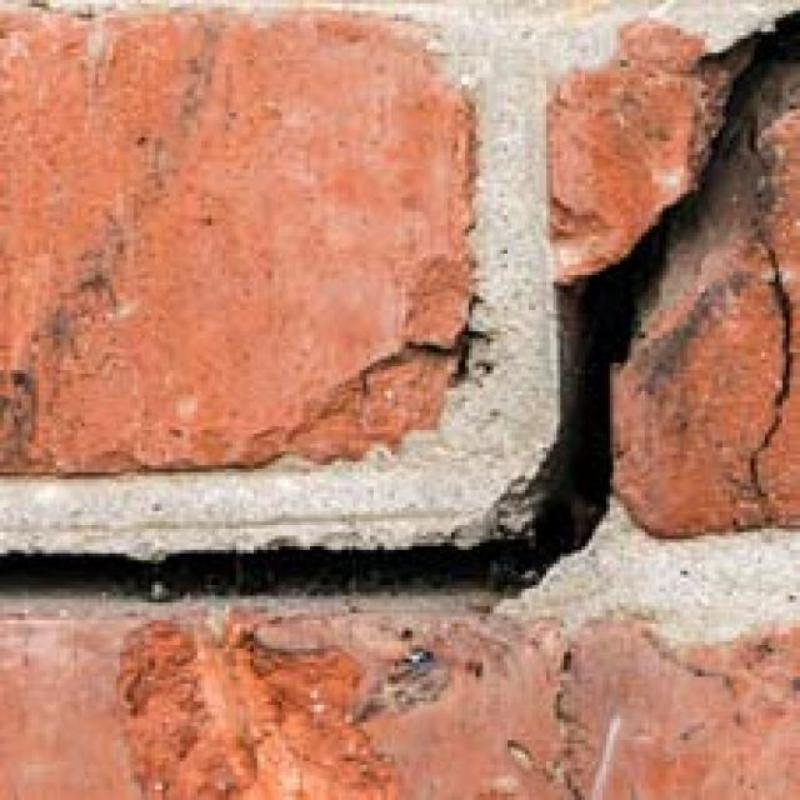crack: (0, 24, 800, 601), (750, 242, 792, 491)
